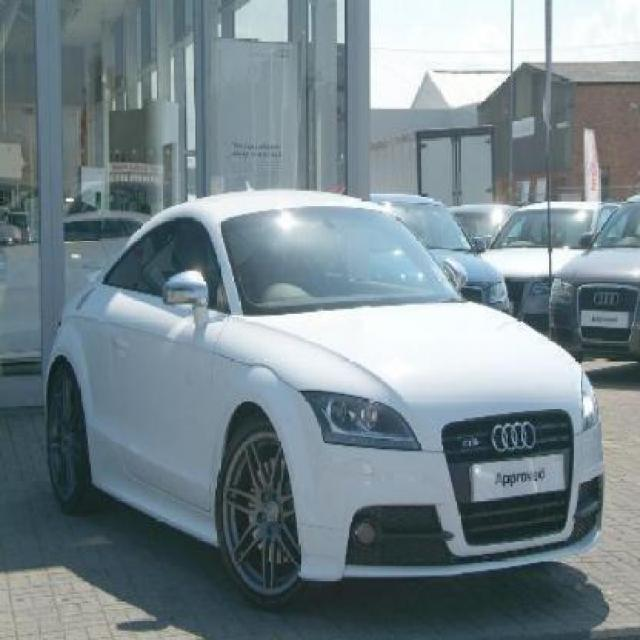vehicle: (35, 163, 620, 590)
